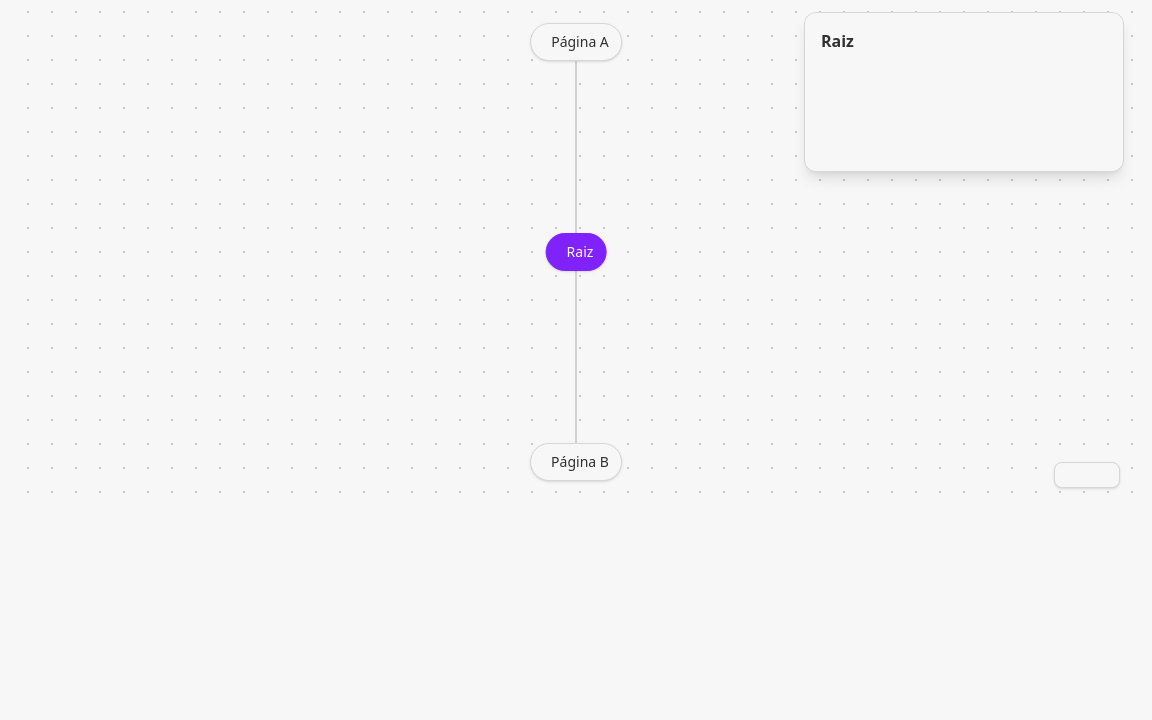
Graph mock › só busca subitens ao focar uma página
The image size is (1152, 720).
Expected: the text "Neta" is not shown
Click the button "Página A": coordinates (576, 42) 531,24 -> 621,60
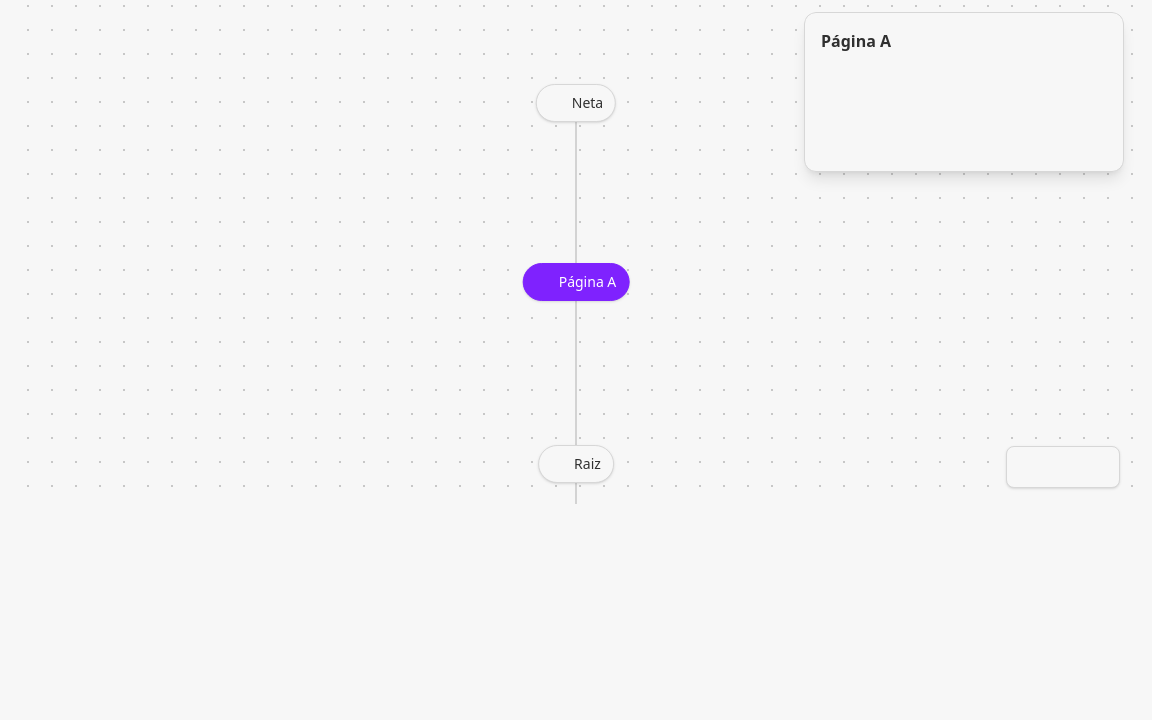
Now the text "Neta" is shown, box 572,93 -> 603,113
